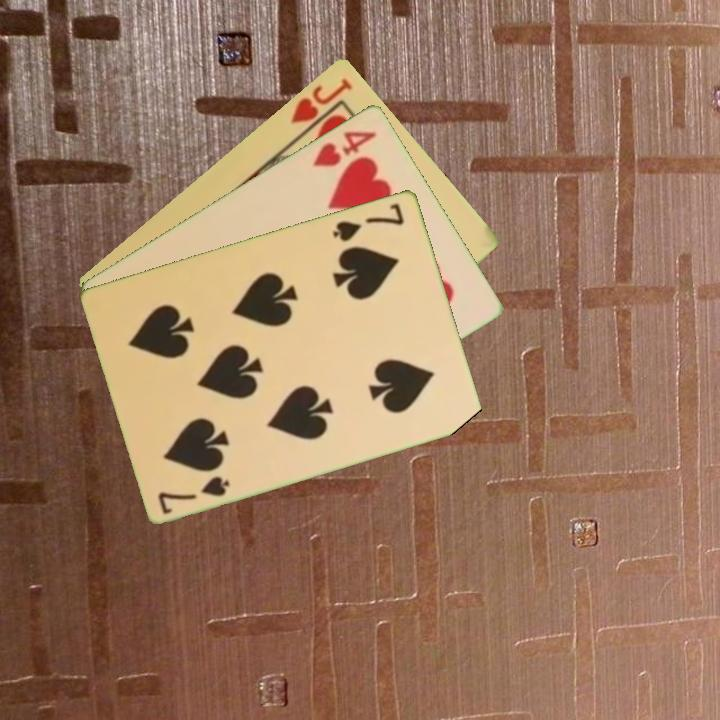4h: (308, 126, 380, 169)
7s: (154, 471, 233, 517), (329, 199, 408, 244)
Jh: (287, 74, 356, 126)
